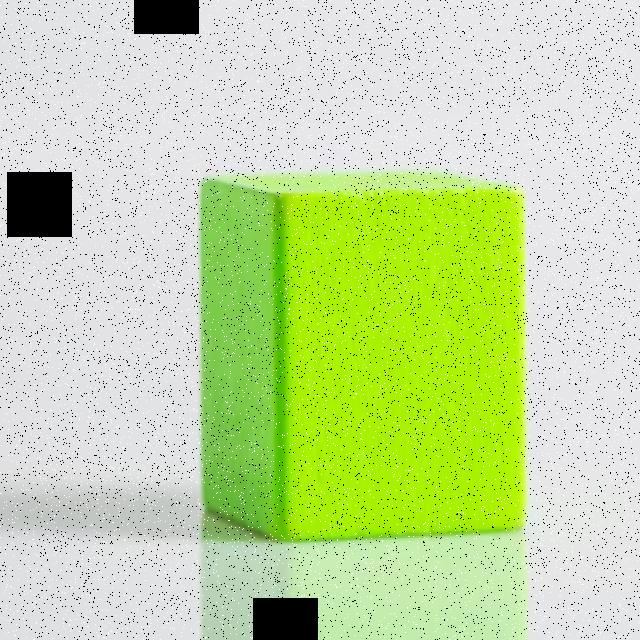green cube: (201, 169, 528, 543)
